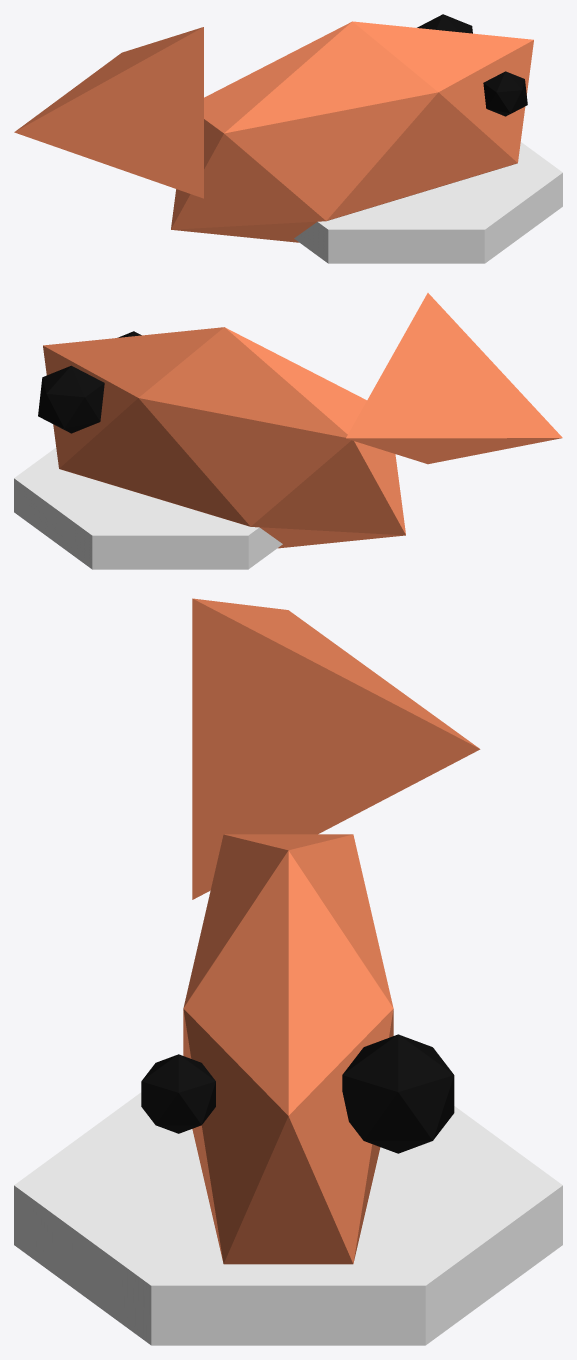
3 renders of one model, top to bottom at view 1: azimuth 30°, elevation 25°; view 2: azimuth 150°, elevation 25°; view 3: azimuth 270°, elevation 25°, orthographic. The views are drawn at different scales.
Visible parts, largest first — view 1: ca; view 2: ca; view 3: ca.
Boxes of the visible parts, <box> form: ca: <box>14,14,562,263</box>; ca: <box>14,293,562,569</box>; ca: <box>14,598,562,1345</box>.
Bounding box in the file's own units: 1.92 × 1 × 1.
